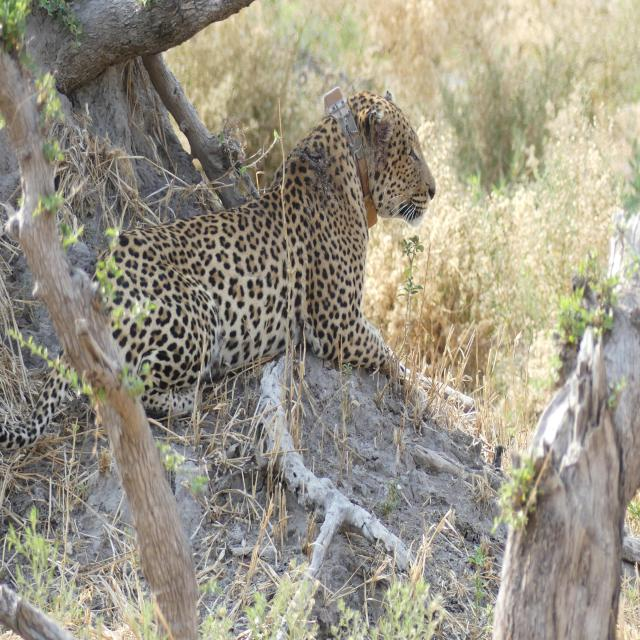Leopard: (4, 91, 432, 446)
